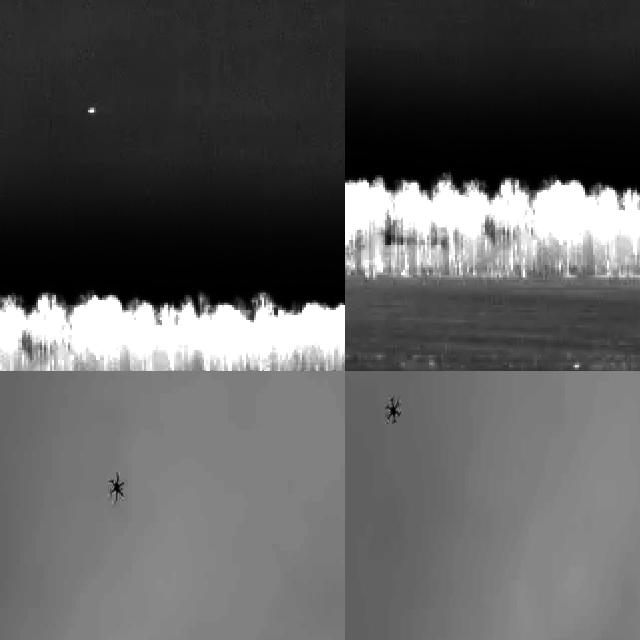1: (70, 95, 104, 133), (510, 0, 544, 16)
drone: (105, 466, 128, 504), (382, 392, 403, 426)
